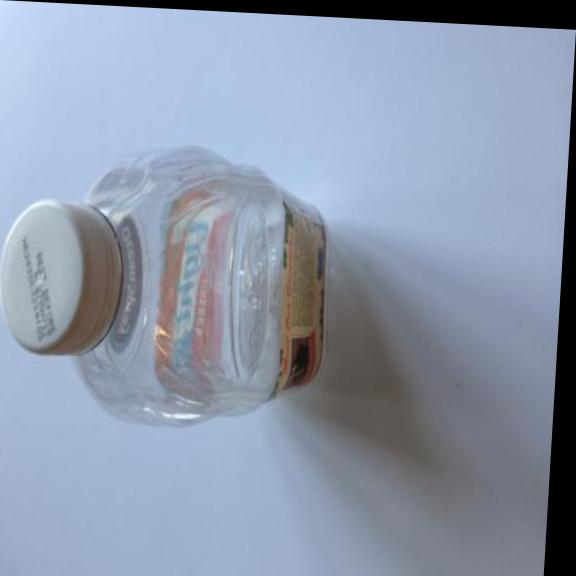Plastik: (0, 125, 347, 434)
